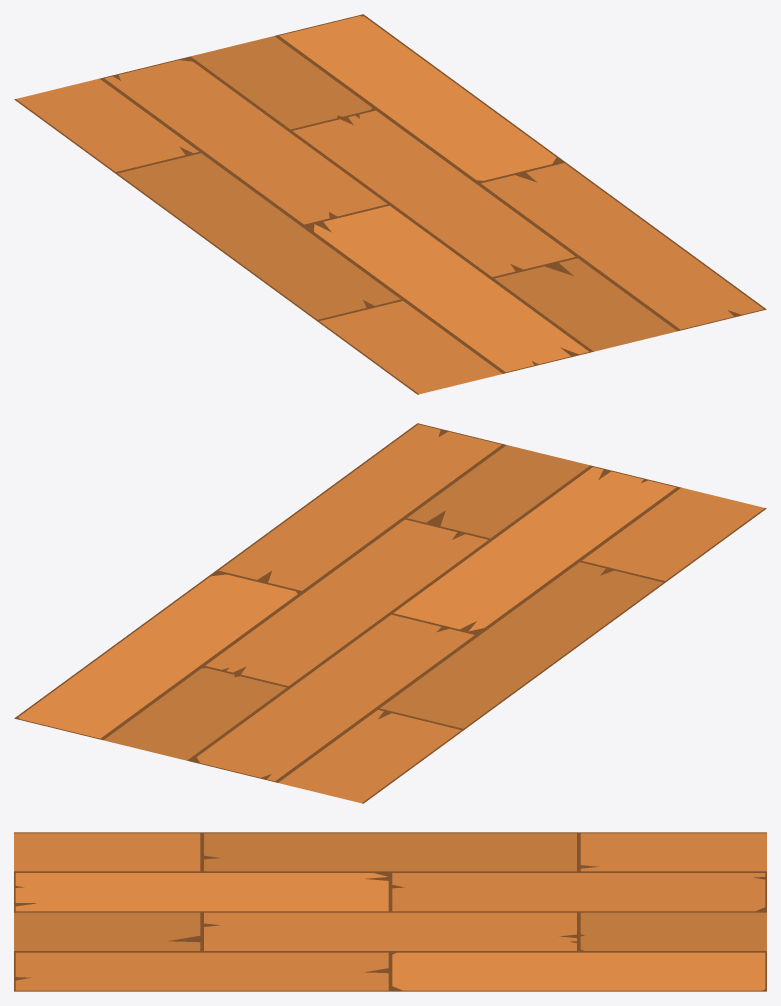
The model's file is Floor1.fbx.
3 views of the same model, one above another, from view 1: azimuth 30°, elevation 25°; view 2: azimuth 150°, elevation 25°; view 3: azimuth 270°, elevation 25° (orthographic). The views are drawn at different scales.
Parts seen in each view (by area): view 1: Floor1; view 2: Floor1; view 3: Floor1.
Boxes of the visible parts, x1=… form: Floor1: x1=14, y1=14, x2=766, y2=394; Floor1: x1=14, y1=423, x2=766, y2=803; Floor1: x1=14, y1=832, x2=766, y2=991.
Bounding box in the file's own units: 100 × 9.31e-08 × 200.
